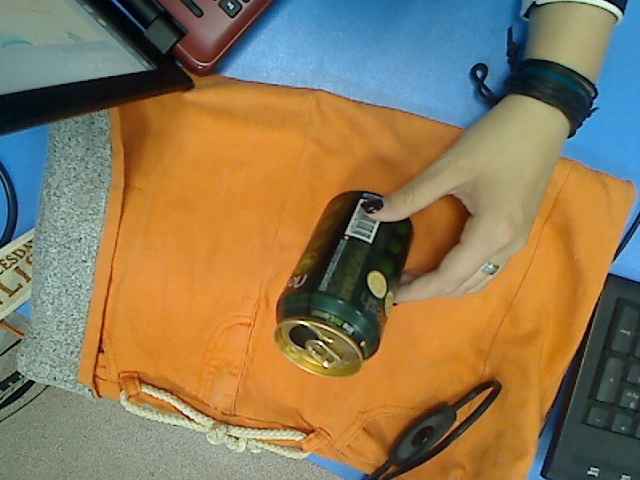can: (273, 189, 418, 380)
